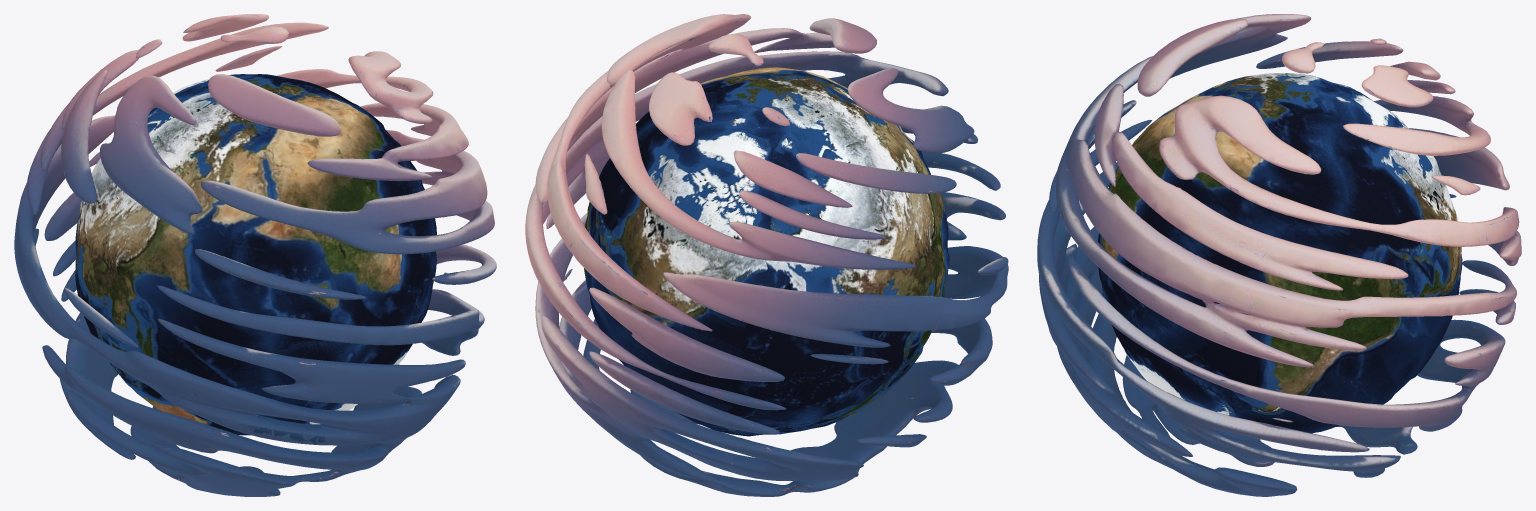
Rendered from EarthModel-v7.glb.
The picture shows the model from 3 angles, left to right: view 1: azimuth 30°, elevation 25°; view 2: azimuth 150°, elevation 25°; view 3: azimuth 270°, elevation 25°; orthographic projection.
Parts seen in each view (by area): view 1: Clouds_1, Planet_2; view 2: Clouds_1, Planet_2; view 3: Clouds_1, Planet_2.
Part boxes in pixels (bbox=[...]): Clouds_1: bbox=[14, 14, 496, 496]; Planet_2: bbox=[75, 74, 436, 435]; Clouds_1: bbox=[525, 14, 1008, 496]; Planet_2: bbox=[584, 67, 949, 436]; Clouds_1: bbox=[1037, 14, 1521, 496]; Planet_2: bbox=[1098, 73, 1462, 433].
Bounding box in the file's own units: 1.75 × 1.72 × 1.75.
Materials: 2 (2 with a texture image).
